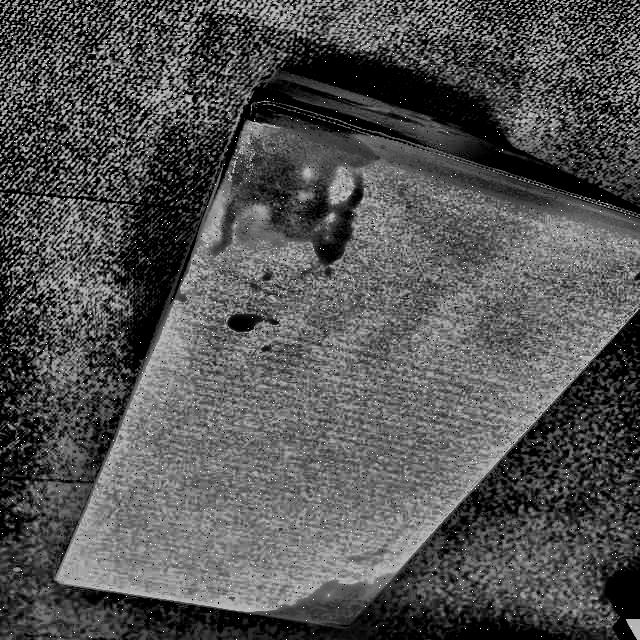box: (51, 61, 640, 637)
wet: (209, 98, 383, 264), (256, 576, 370, 626)
